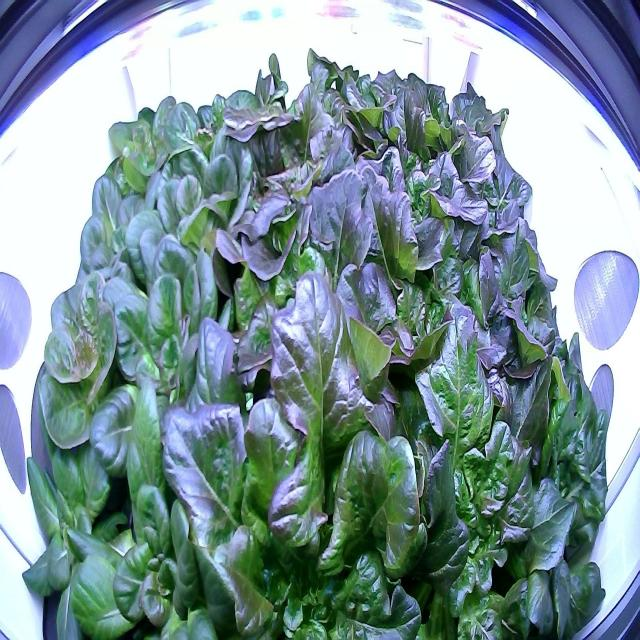Ready: (80, 239, 267, 521), (64, 358, 250, 637), (112, 119, 269, 367), (25, 239, 164, 468), (155, 49, 285, 234), (73, 137, 204, 315), (100, 64, 212, 224)
young: (11, 391, 162, 638)
